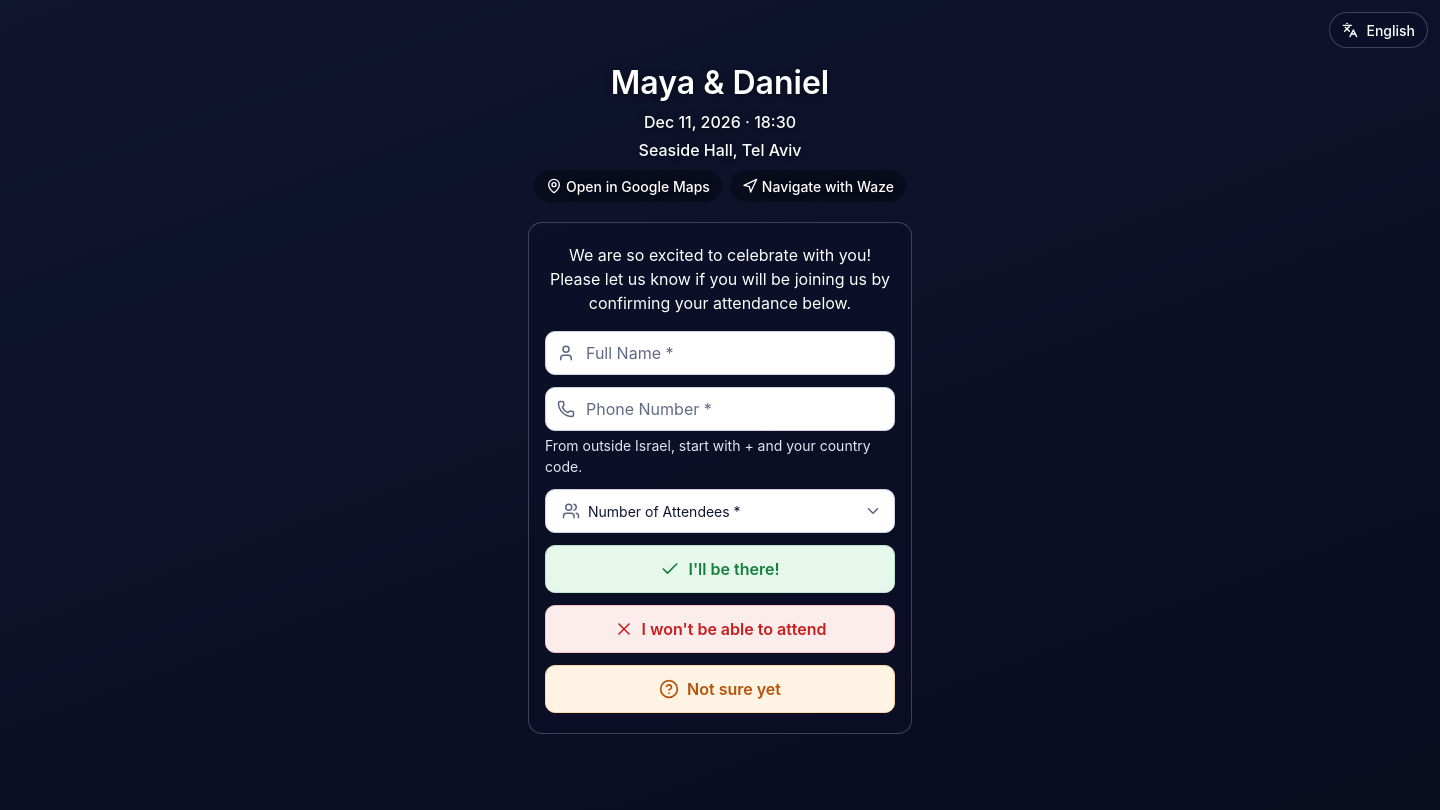
Test: Public RSVP page › asks for every field before a response is sent
Expected: the heading "Maya & Daniel" is shown, x1=611 y1=63 x2=829 y2=102
Click the button "I won't be able to attend".
click(720, 629)  # box x1=545 y1=605 x2=895 y2=653
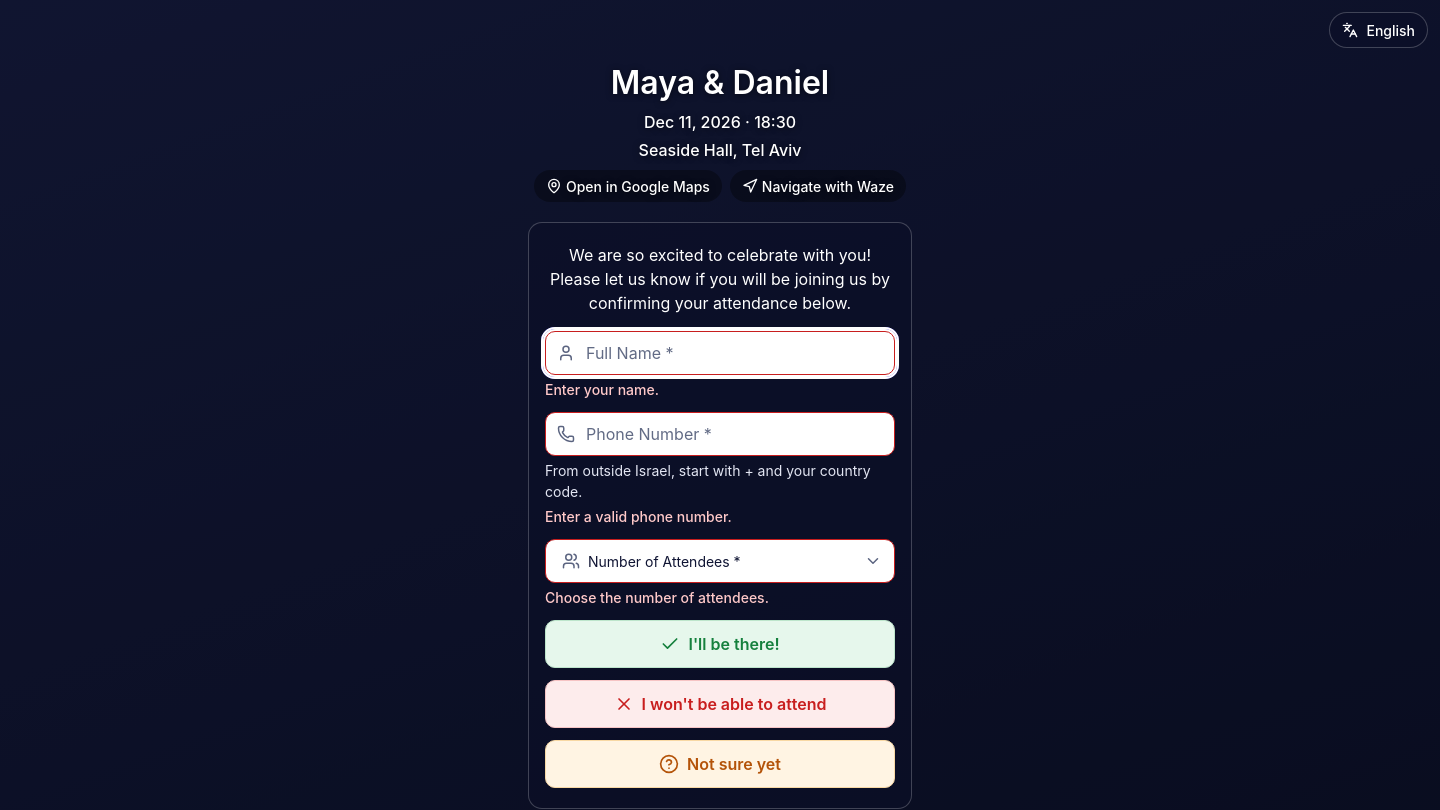
Expected: the text "Enter your name." is shown, x1=545 y1=381 x2=659 y2=398
Expected: the text "Enter a valid phone number." is shown, x1=545 y1=508 x2=732 y2=525
Expected: the text "Choose the number of attendees." is shown, x1=545 y1=589 x2=769 y2=606
